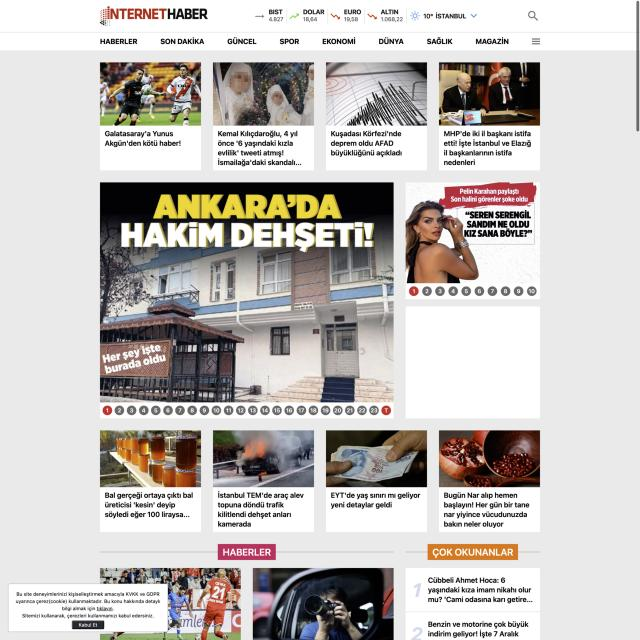logo: (95, 3, 215, 30)
navigation: (98, 36, 512, 46), (529, 36, 543, 47)
